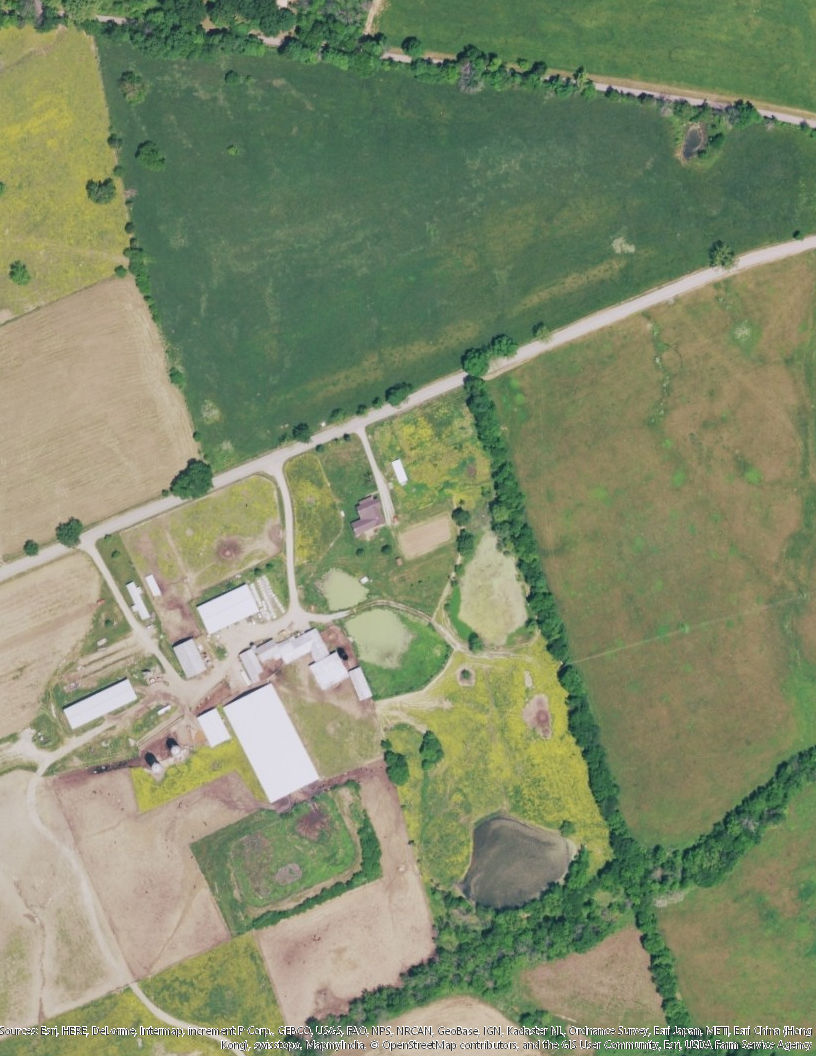cafo: (221, 681, 323, 806), (61, 677, 142, 730), (196, 582, 261, 635)
